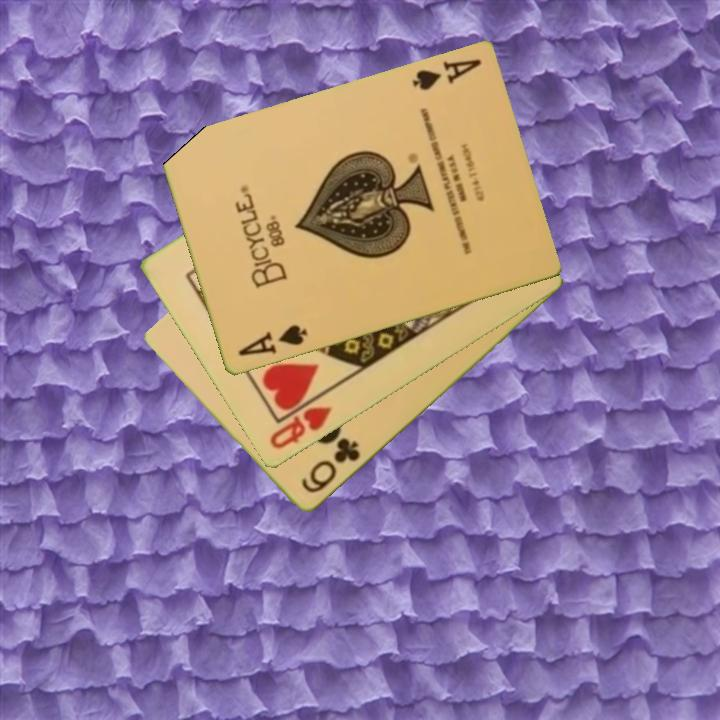6c: (297, 435, 364, 498)
As: (234, 321, 311, 360), (408, 56, 485, 94)
Qh: (266, 403, 336, 453)
